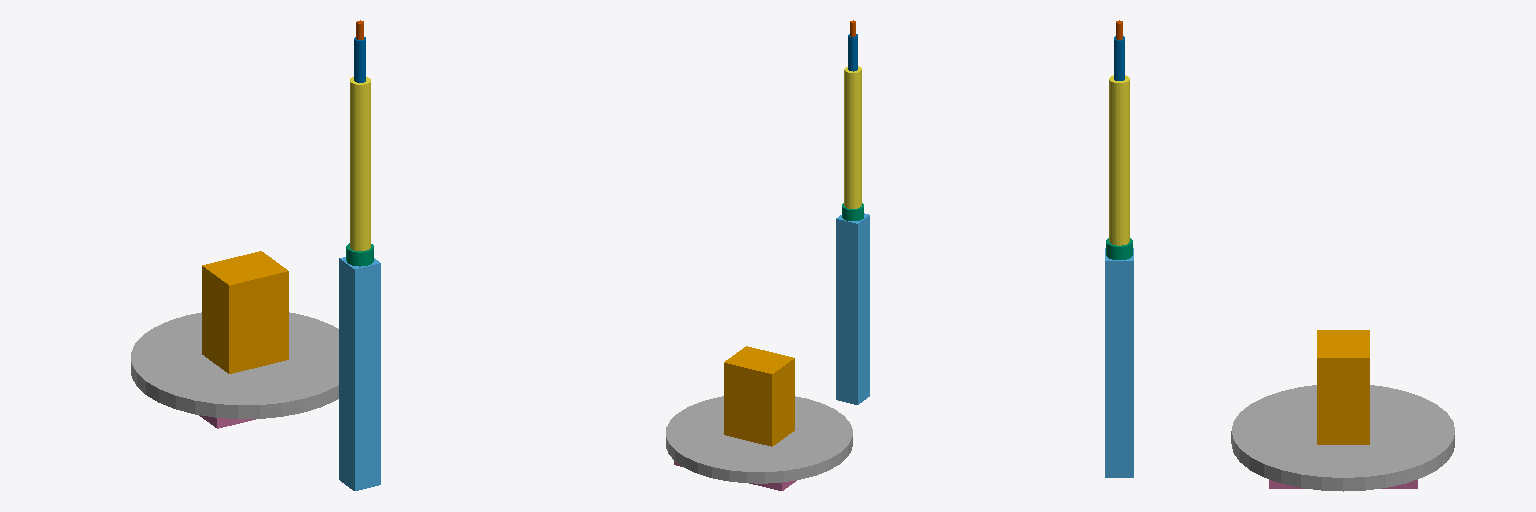
URDF robot description (robot_arm):
<?xml version="1.0"?>
<robot name="robot_arm">

<!-- only movable links have number in the name, like link1, link2 -->
<!-- only movable links have number in the name, like joint1, joint2 -->

<!-- world link -->
<link name="world"/>

<!-- base_link and its fixed joint -->
<joint name="joint_fix" type="fixed">
	<parent link="world"/>
	<child link="base_link"/>
</joint>

<link name="base_link">
	<collision>
		<origin xyz="0 0 0.7" rpy="0 0 0"/>
		<geometry>
			<box size="0.2 0.2 1.4"/>
		</geometry>
	</collision>

	<visual>
		<origin xyz="0 0 0.7" rpy="0 0 0"/>
		<geometry>
			<box size="0.2 0.2 1.6"/>
		</geometry>
	</visual>

	<inertial>
		<origin xyz="0 0 0.7" rpy="0 0 0"/>
		<mass value="1"/>
		<inertia
			ixx="1.0" ixy="0.0" ixz="0.0"
			iyy="1.0" iyz="0.0"
			izz="1.0"/>
	</inertial>
</link>

<!-- link1 and its revolute joint1 relative to base_link -->
<!-- rotating along z axis -->
<joint name="joint1" type="revolute">
	<parent link="base_link"/>
	<child link="link1"/>
	<origin xyz="0 0 1.5" rpy="0 0 0"/>
	<axis xyz="0 0 1"/>
	<limit effort="100" velocity="100" lower="0" upper="3.1416"/>
</joint>

<link name="link1">
	<collision>
		<origin xyz="0 0 0.05" rpy="0 0 0"/>
		<geometry>
			<cylinder length="0.1" radius="0.09"/>
		</geometry>
	</collision>

	<visual>
		<origin xyz="0 0 0.05" rpy="0 0 0"/>
		<geometry>
			<cylinder length="0.1" radius="0.09"/>
		</geometry>
	</visual>

	<inertial>
		<origin xyz="0 0 0.05" rpy="0 0 0"/>
		<mass value="1"/>
		<inertia
			ixx="0.001" ixy="0.0" ixz="0.0"
			iyy="0.001" iyz="0.0"
			izz="0.001"/>
	</inertial>
</link>

<gazebo reference="link1">
	<material>Gazebo/Grey</material>
</gazebo>

<!-- link2 and its revolute joint2 relative to link1 -->
<!-- rotating along y axis -->
<joint name="joint2" type="revolute">
	<parent link="link1"/>
	<child link="link2"/>
	<origin xyz="0 0 0.1" rpy="0 0 0"/>
	<axis xyz="0 1 0"/>
	<limit effort="100" velocity="100" lower="-0.1" upper="3.1416"/>
</joint>

<link name="link2">
	<collision>
		<origin xyz="0 0 0.6" rpy="0 0 0"/>
		<geometry>
			<cylinder length="1.1" radius="0.07"/>
		</geometry>
	</collision>

	<visual>
		<origin xyz="0 0 0.6" rpy="0 0 0"/>
		<geometry>
			<cylinder length="1.2" radius="0.07"/>
		</geometry>
	</visual>

	<inertial>
		<origin xyz="0 0 0.6" rpy="0 0 0"/>
		<mass value="1"/>
		<inertia
			ixx="0.1" ixy="0.0" ixz="0.0"
			iyy="0.1" iyz="0.0"
			izz="0.005"/>
	</inertial>
</link>

<gazebo reference="link2">
	<material>Gazebo/Grey</material>
</gazebo>

<!-- link3 and its revolute joint3 relative to link2 -->
<!-- rotating along y axis -->
<joint name="joint3" type="revolute">
	<parent link="link2"/>
	<child link="link3"/>
	<origin xyz="0 0 1.2" rpy="0 0 0"/>
	<axis xyz="0 1 0"/>
	<limit effort="100" velocity="100" lower="-1.5708" upper="1.5708"/>
</joint>

<link name="link3">
	<collision>
		<origin xyz="0 0 0.15" rpy="0 0 0"/>
		<geometry>
			<cylinder length="0.3" radius="0.04"/>
		</geometry>
	</collision>

	<visual>
		<origin xyz="0 0 0.15" rpy="0 0 0"/>
		<geometry>
			<cylinder length="0.3" radius="0.04"/>
		</geometry>
	</visual>

	<inertial>
		<origin xyz="0 0 0.15" rpy="0 0 0"/>
		<mass value="1"/>
		<inertia
			ixx="0.1" ixy="0.0" ixz="0.0"
			iyy="0.1" iyz="0.0"
			izz="0.005"/>
	</inertial>
</link>

<gazebo reference="link3">
	<material>Gazebo/Grey</material>
</gazebo>

<!-- link4 and its revolute joint4 relative to link3 -->
<!-- rotating along y axis -->
<joint name="joint4" type="revolute">
	<parent link="link3"/>
	<child link="link4"/>
	<origin xyz="0 0 0.3" rpy="0 0 0"/>
	<axis xyz="1 0 0"/>
	<limit effort="100" velocity="100" lower="-1.5708" upper="1.5708"/>
</joint>

<link name="link4">
	<collision>
		<origin xyz="0 0 0.06" rpy="0 0 0"/>
		<geometry>
			<cylinder length="0.12" radius="0.025"/>
		</geometry>
	</collision>

	<visual>
		<origin xyz="0 0 0.06" rpy="0 0 0"/>
		<geometry>
			<cylinder length="0.12" radius="0.025"/>
		</geometry>
	</visual>

	<inertial>
		<origin xyz="0 0 0.06" rpy="0 0 0"/>
		<mass value="0.4"/>
		<inertia
			ixx="0.05" ixy="0.0" ixz="0.0"
			iyy="0.002" iyz="0.0"
			izz="0.05"/>
	</inertial>
</link>

<gazebo reference="link4">
	<material>Gazebo/Red</material>
</gazebo>


<!-- base_link and its fixed joint -->
<joint name="joint_fix_p" type="fixed">
  <parent link="world"/>
  <child link="base_link_p"/>
</joint>

<link name="base_link_p">
  <collision>
    <origin xyz="0 1.5 0.05" rpy="0 0 0"/>
    <geometry>
      <box size="1 1 0.1"/>
    </geometry>
  </collision>

  <visual>
    <origin xyz="0 1.5 0.05" rpy="0 0 0"/>
    <geometry>
      <box size="1 1 0.1"/>
    </geometry>
  </visual>

  <inertial>
    <origin xyz="0 1.5 0.5" rpy="0 0 0"/>
    <mass value="1"/>
    <inertia
      ixx="1.0" ixy="0.0" ixz="0.0"
      iyy="1.0" iyz="0.0"
      izz="1.0"/>
  </inertial>
</link>

<!-- link1 and its revolute joint1 relative to base_link -->
<!-- rotating along z axis -->
<joint name="joint5" type="revolute">
  <parent link="base_link_p"/>
  <child link="link1_p"/>
  <origin xyz="0 1.5 0.15" rpy="0 0 0"/>
  <axis xyz="0 0 1"/>
  <limit effort="100" velocity="100" lower="-3.1416" upper="3.1416"/>
</joint>

<link name="link1_p">
  <collision>
    <origin xyz="0 0 0" rpy="0 0 0"/>
	<geometry>
		<cylinder length="0.1" radius="0.75"/>
	</geometry>
  </collision>

  <visual>
    <origin xyz="0 0 0" rpy="0 0 0"/>
	<geometry>
		<cylinder length="0.1" radius="0.75"/>
	</geometry>
  </visual>

  <inertial>
    <origin xyz="0 0 0.05" rpy="0 0 0"/>
    <mass value="1"/>
    <inertia
      ixx="1" ixy="0.0" ixz="0.0"
      iyy="1" iyz="0.0"
      izz="1"/>
  </inertial>
</link>

<gazebo reference="link1_p">
  <material>Gazebo/Grey</material>
</gazebo>

<joint name="joint_box" type="fixed">
  <parent link="link1_p"/>
  <child link="box"/>
</joint>

<link name="box">
  <collision>
    <origin xyz="0 0 0.3" rpy="0 0 0"/>
    <geometry>
      <box size="0.45 0.36 0.78"/>
    </geometry>
  </collision>

  <visual>
    <origin xyz="0 0 0.3" rpy="0 0 0"/>
    <geometry>
      <box size="0.45 0.36 0.78"/>
    </geometry>
  </visual>

  <inertial>
    <origin xyz="0 0 0.05" rpy="0 0 0"/>
    <mass value="1"/>
    <inertia
      ixx="1" ixy="0.0" ixz="0.0"
      iyy="1" iyz="0.0"
      izz="1"/>
  </inertial>
</link>

<gazebo reference="box">
  <material>Gazebo/black</material>
</gazebo>


</robot>

--- Render facts (derived) ---
3 views of the same robot in one strip: view 1: azimuth 30°, elevation 25°; view 2: azimuth 150°, elevation 25°; view 3: azimuth 270°, elevation 25° (orthographic).
Robot: robot_arm — 9 links, 8 joints (5 revolute, 3 fixed); root link world; default pose: all joints at 0.
Links seen in each view (by area): view 1: link1_p, base_link, box, link2; view 2: link1_p, base_link, box, link2; view 3: link1_p, base_link, box, link2.
Boxes of the visible links, bbox=[...] form: link1_p: bbox=[131, 312, 338, 418]; base_link: bbox=[339, 257, 380, 490]; box: bbox=[202, 251, 288, 373]; link2: bbox=[350, 77, 370, 250]; link1_p: bbox=[666, 396, 852, 483]; base_link: bbox=[836, 213, 869, 404]; box: bbox=[724, 346, 794, 446]; link2: bbox=[844, 66, 861, 208]; link1_p: bbox=[1231, 385, 1454, 491]; base_link: bbox=[1105, 248, 1133, 477]; box: bbox=[1317, 330, 1369, 444]; link2: bbox=[1109, 75, 1129, 245].
Size in the robot's own frame: 1.5 by 2.35 by 3.32 metres.
Geometry: primitives only (box / cylinder / sphere), no mesh files.